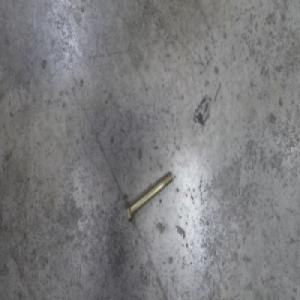Bolt: (124, 168, 174, 226)
